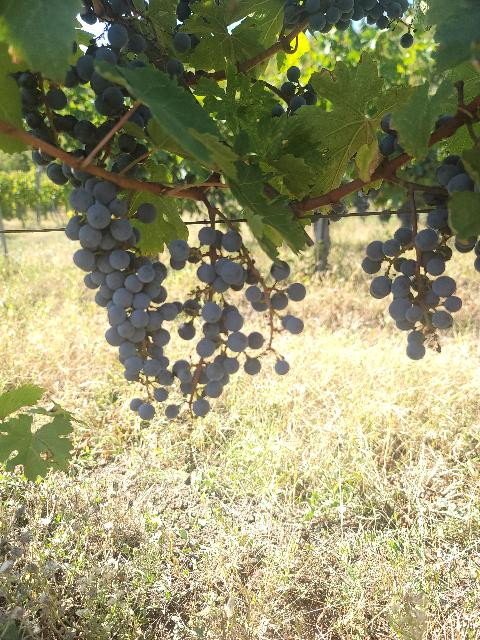grapes: (36, 152, 195, 402), (168, 226, 305, 416), (361, 226, 461, 360)
